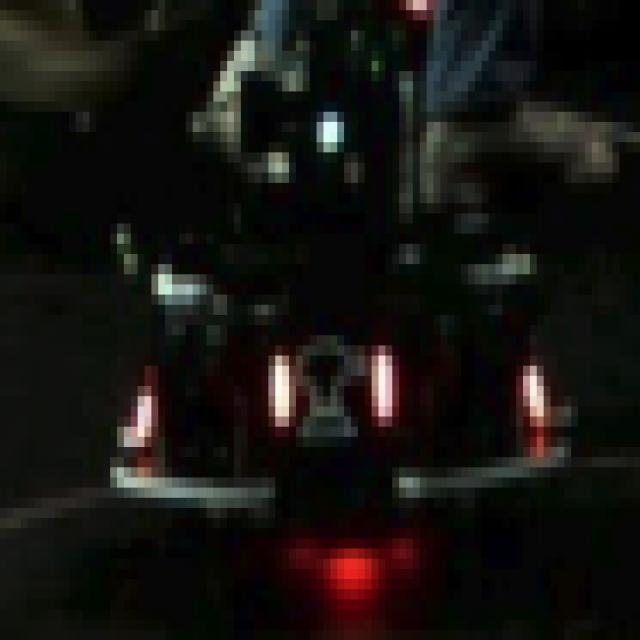Rs: (262, 315, 399, 457)
